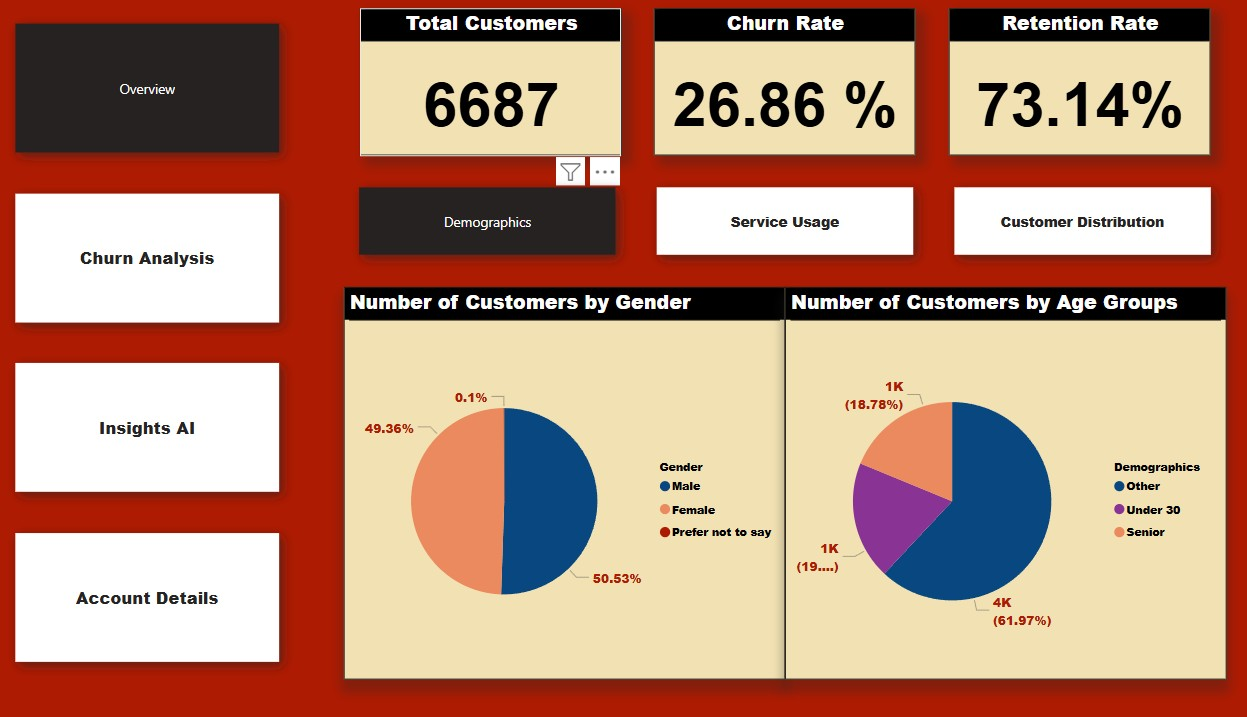

The page's visual inventory and layout, read from the dashboard file:
{"tool":"powerbi","page":{"name":"Overview","canvas":[1280,720],"ordinal":0},"visuals":[{"type":"card","title":"Churn Rate","fields":{"Values":["Databel - Data.Churn Rate"]},"box":[640,16,256,144],"z":0},{"type":"pieChart","title":"Number of Customers by Gender","fields":{"Category":["Databel - Data.Gender"],"Y":["Databel - Data.Number of Customers"]},"box":[336,288,432,384],"z":0,"group":"g1"},{"type":"card","title":"Total Customers","fields":{"Values":["Count(Databel - Data.Customer ID)"]},"box":[352,16,256,144],"z":1000},{"type":"pieChart","title":"Number of Customers by Age Groups","fields":{"Category":["Databel - Data.Demographics"],"Y":["Databel - Data.Number of Customers"]},"box":[768,288,432,384],"z":1000,"group":"g1"},{"type":"card","title":"Retention Rate","fields":{"Values":["Databel - Data.Retention rate"]},"box":[928,16,256,144],"z":2000},{"type":"pageNavigator","box":[0,16,288,656],"z":3000},{"type":"group","id":"g1","title":"Demographics","box":[336,288,864,384],"z":6000},{"type":"bookmarkNavigator","box":[336,176,864,96],"z":7000}]}

Visuals, with their boxes in screenshot pixels (x1, y1, x2, y2), scaled from the page's 1280x720 canvas onto the 1247x717 screenshot:
"Churn Rate" card: [624, 16, 873, 159]
"Number of Customers by Gender" pieChart: [327, 287, 748, 669]
"Total Customers" card: [343, 16, 592, 159]
"Number of Customers by Age Groups" pieChart: [748, 287, 1169, 669]
"Retention Rate" card: [904, 16, 1153, 159]
pageNavigator: [0, 16, 281, 669]
"Demographics" group: [327, 287, 1169, 669]
bookmarkNavigator: [327, 175, 1169, 271]
